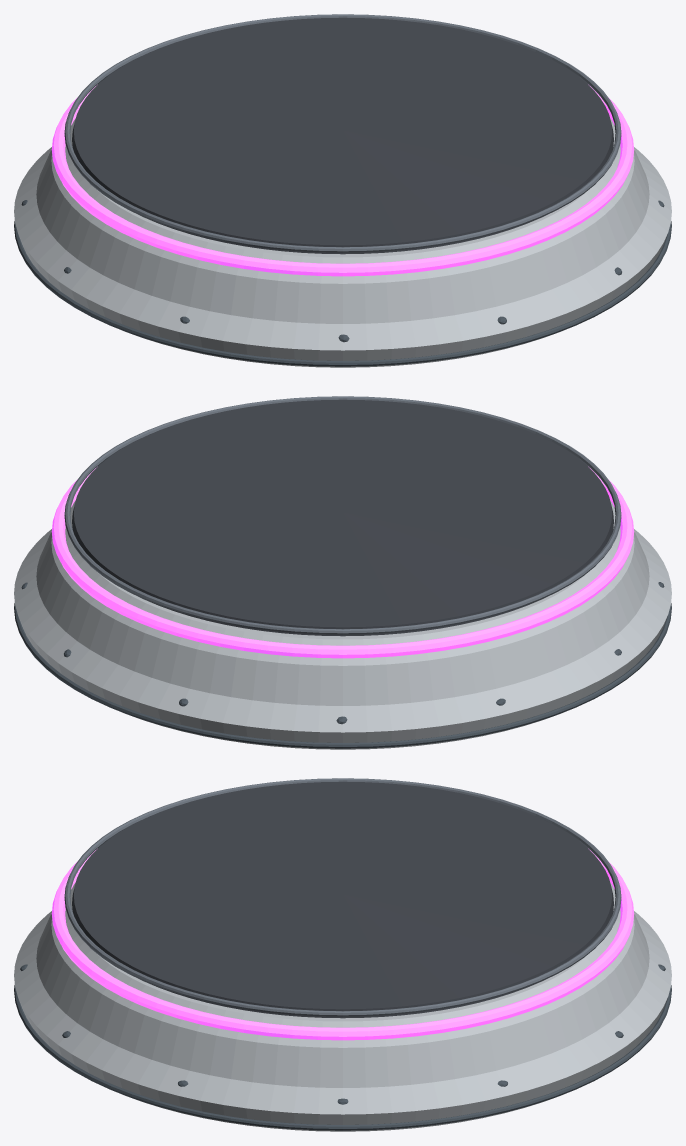
File: podium_violet.glb
3 renders of one model, top to bottom at view 1: azimuth 30°, elevation 25°; view 2: azimuth 150°, elevation 25°; view 3: azimuth 270°, elevation 25°, orthographic.
Parts seen in each view (by area): view 1: PODIUM_charcoal, PODIUM_brushed_silver, PODIUM_violet, PODIUM_gunmetal, PODIUM_dark_steel; view 2: PODIUM_charcoal, PODIUM_brushed_silver, PODIUM_violet, PODIUM_gunmetal, PODIUM_dark_steel; view 3: PODIUM_charcoal, PODIUM_brushed_silver, PODIUM_violet, PODIUM_gunmetal, PODIUM_dark_steel.
Boxes of the visible parts, <box> form: PODIUM_charcoal: <box>72,17,613,254</box>; PODIUM_brushed_silver: <box>14,118,671,367</box>; PODIUM_violet: <box>51,84,634,276</box>; PODIUM_gunmetal: <box>64,14,621,252</box>; PODIUM_dark_steel: <box>14,200,671,366</box>; PODIUM_charcoal: <box>72,399,613,636</box>; PODIUM_brushed_silver: <box>14,500,671,749</box>; PODIUM_violet: <box>51,466,634,658</box>; PODIUM_gunmetal: <box>64,396,621,634</box>; PODIUM_dark_steel: <box>14,582,671,748</box>; PODIUM_charcoal: <box>72,781,613,1018</box>; PODIUM_brushed_silver: <box>14,882,671,1131</box>; PODIUM_violet: <box>51,848,634,1040</box>; PODIUM_gunmetal: <box>64,778,621,1016</box>; PODIUM_dark_steel: <box>14,964,671,1130</box>.
Size of the model in its own units: 1.76 by 0.32 by 1.76.
